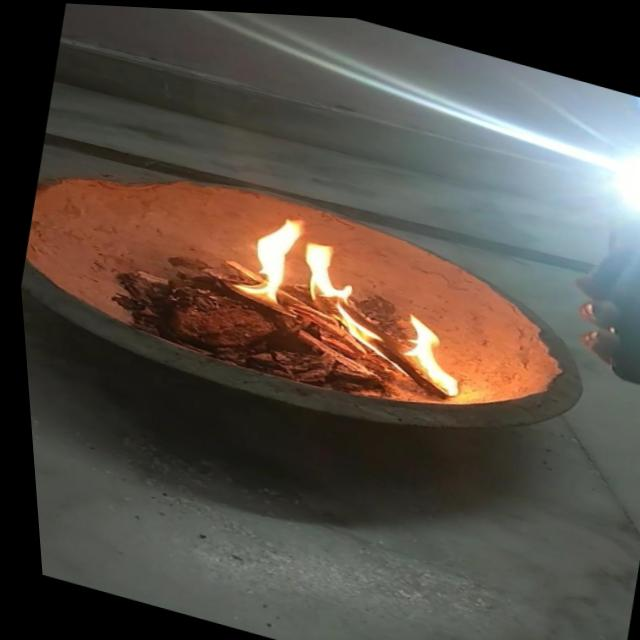fire: (366, 300, 476, 400), (221, 197, 314, 313), (283, 228, 370, 312)
